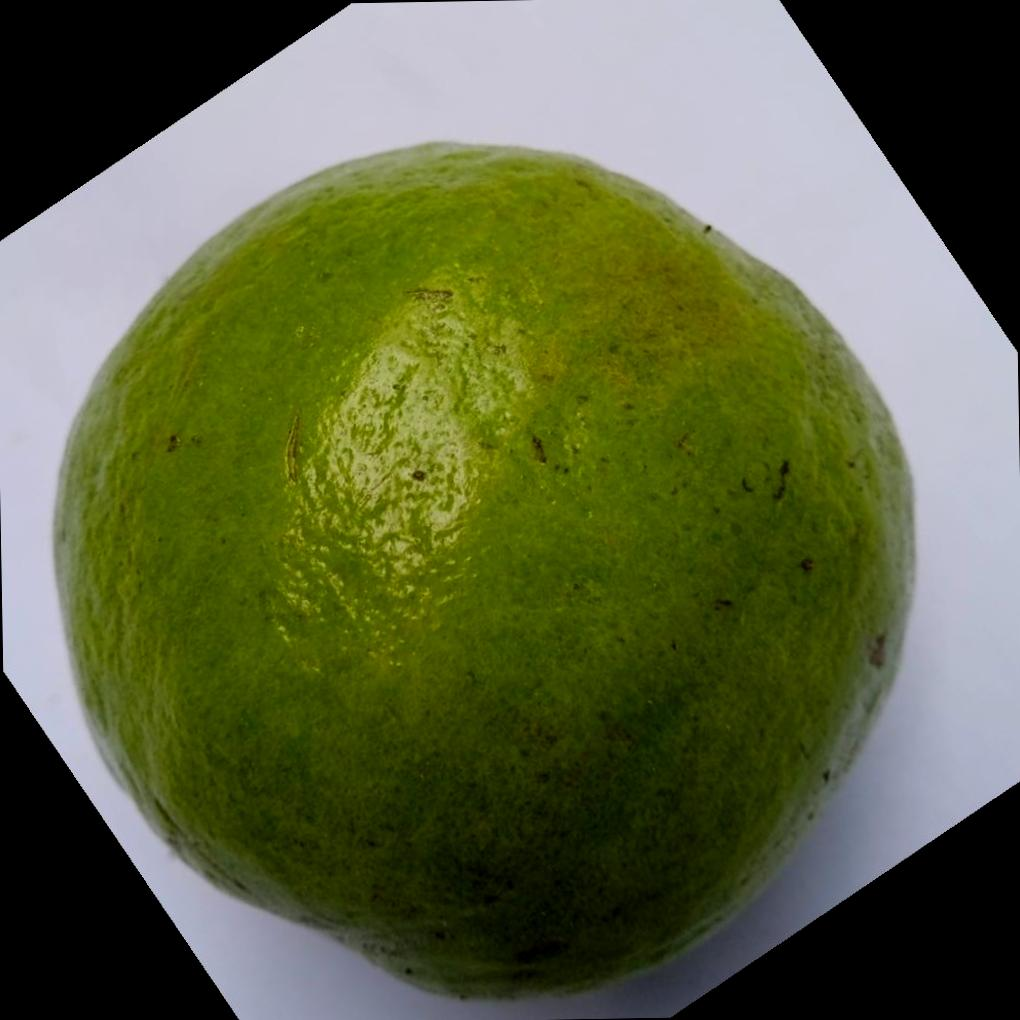FreshGuava: (47, 139, 918, 1004)
